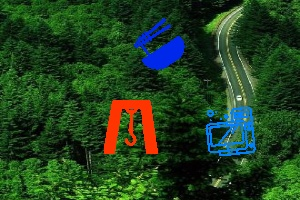相机: (204, 105, 258, 156)
筷子碗: (133, 18, 185, 71)
钩子: (104, 98, 159, 156)
